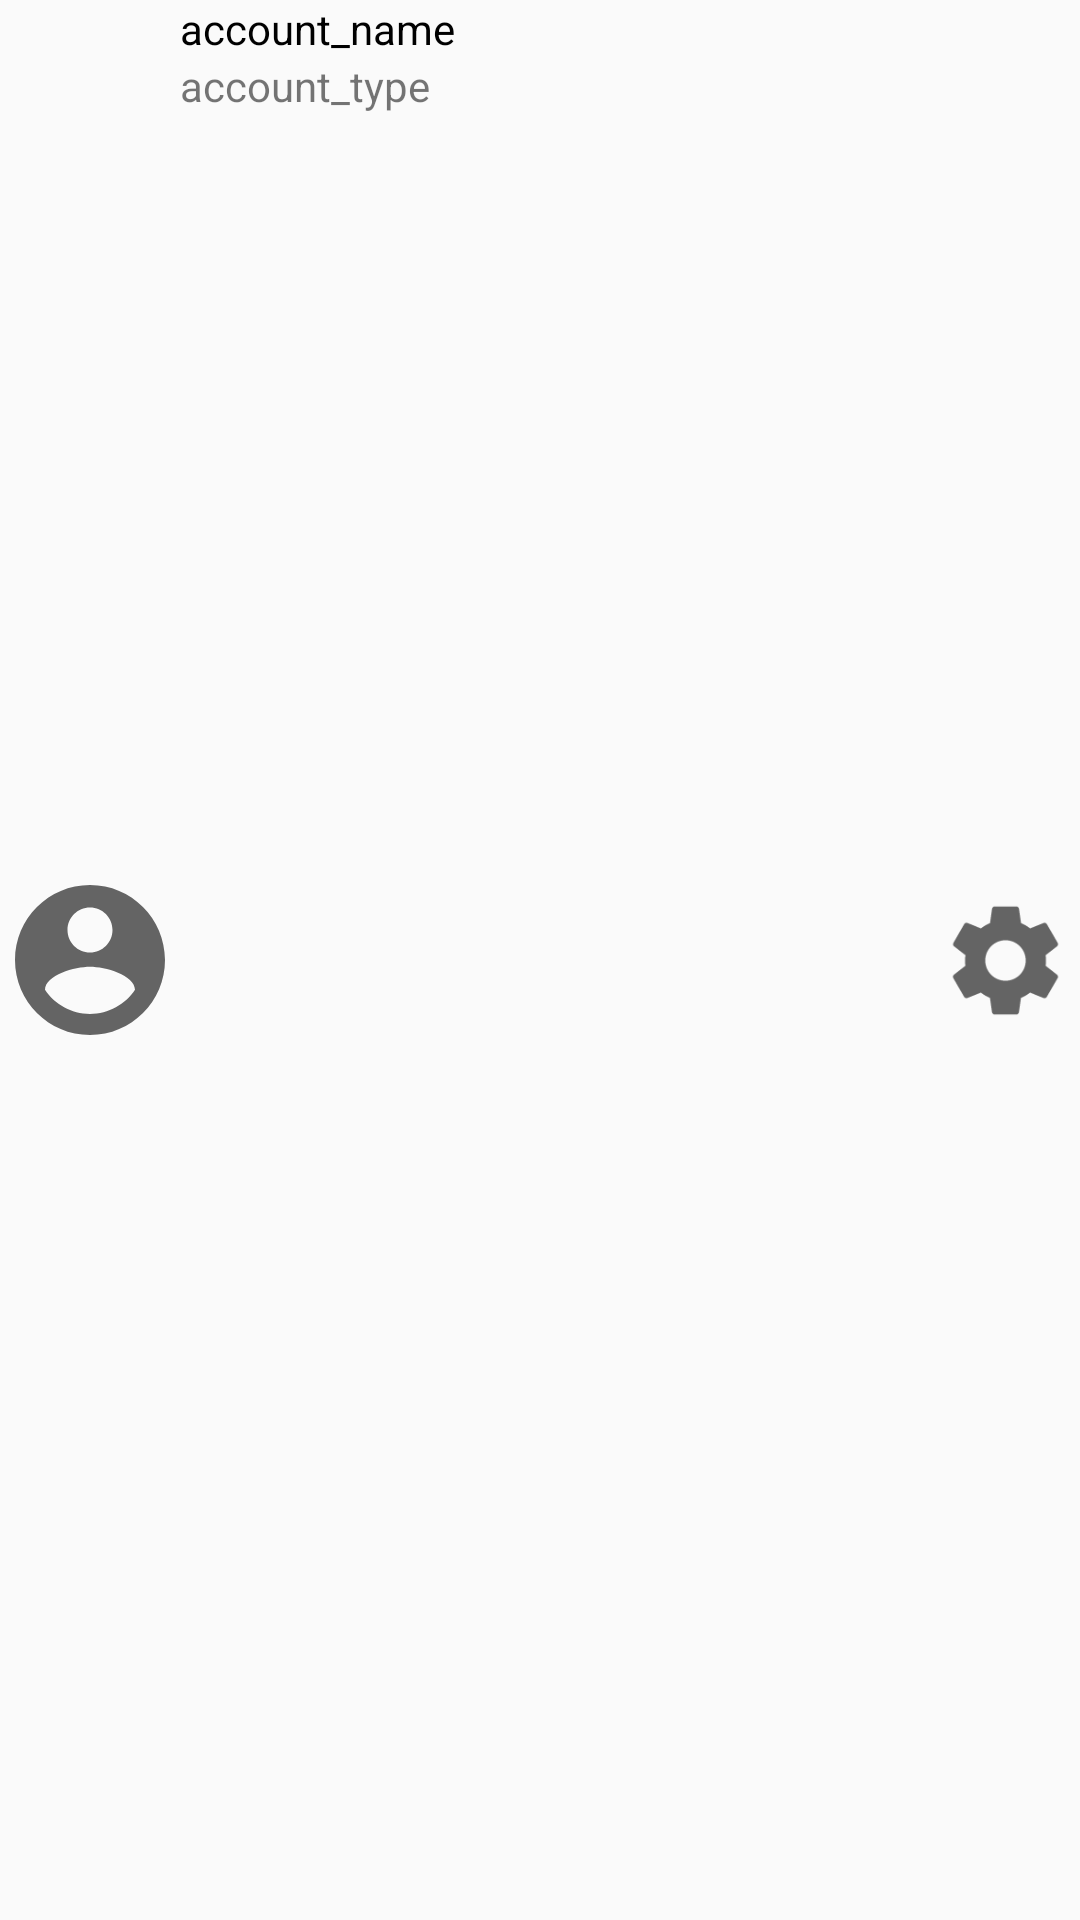

Screen size 1080px×1920px. Icon name, then its center in pixels as (x,y):
account circle: (90,960)
settings: (1005,960)
